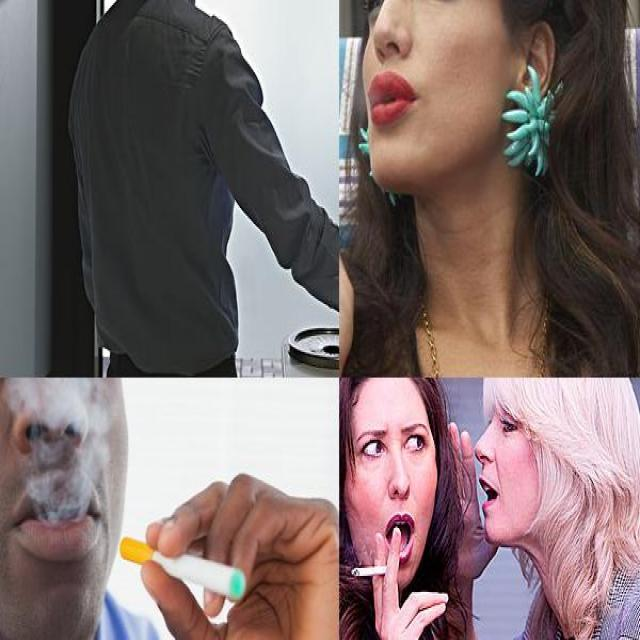smoke: (119, 536, 248, 602), (350, 564, 392, 580)
